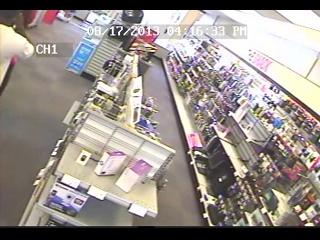Normal: (1, 11, 36, 96)
